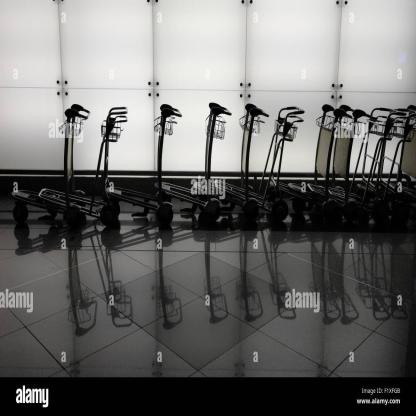airport-trolley: (307, 104, 404, 220), (38, 105, 130, 227), (215, 103, 306, 222), (11, 102, 92, 231), (153, 98, 234, 226), (329, 104, 416, 221), (288, 102, 372, 222), (105, 102, 183, 230), (272, 102, 353, 223), (207, 103, 271, 226)
